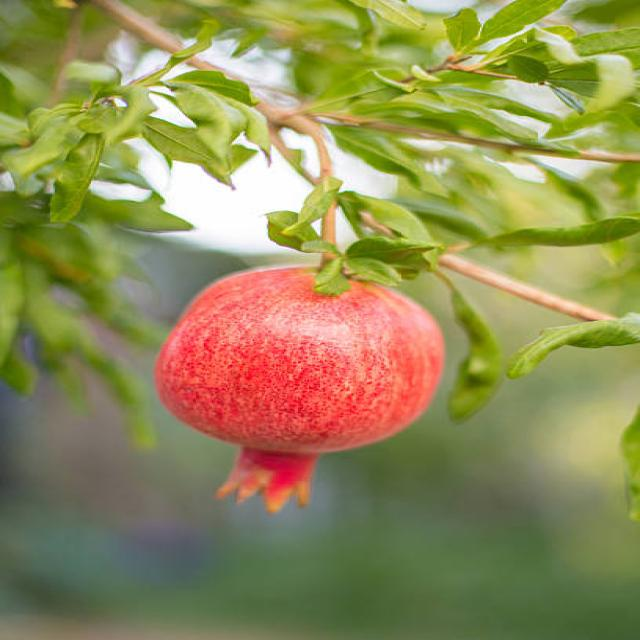Ripe: (143, 260, 450, 507)
